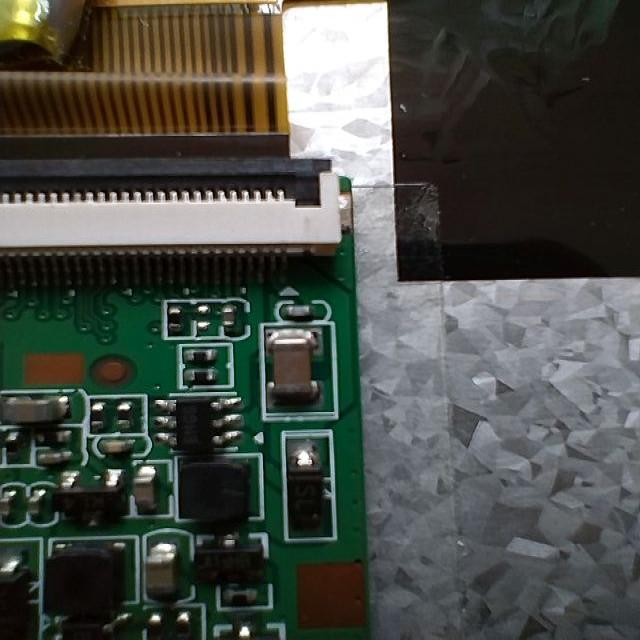capacitor: (260, 313, 344, 423), (131, 519, 199, 603), (0, 389, 87, 438), (129, 460, 177, 524)
